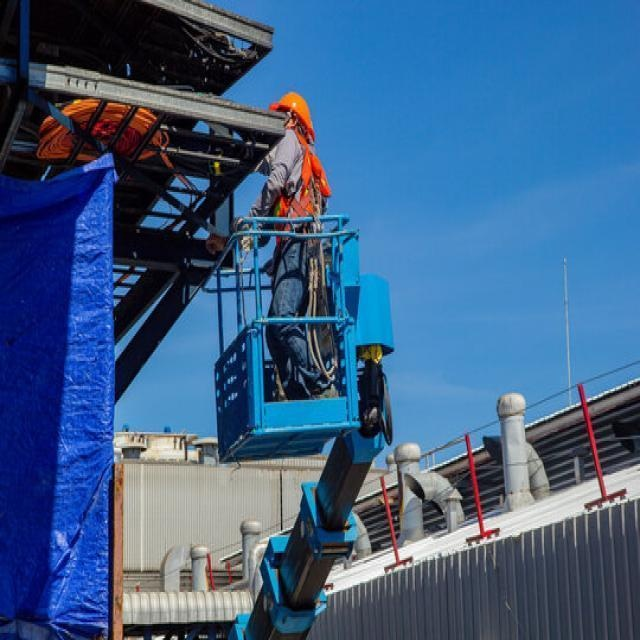Arnes_seguridad: (265, 131, 333, 262)
